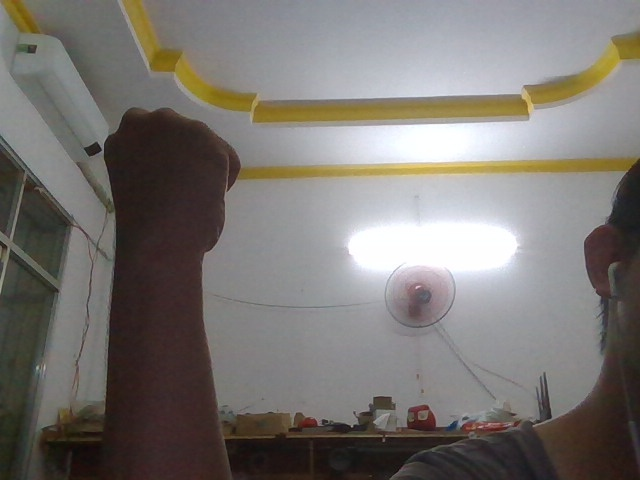fist: (80, 94, 253, 325)
